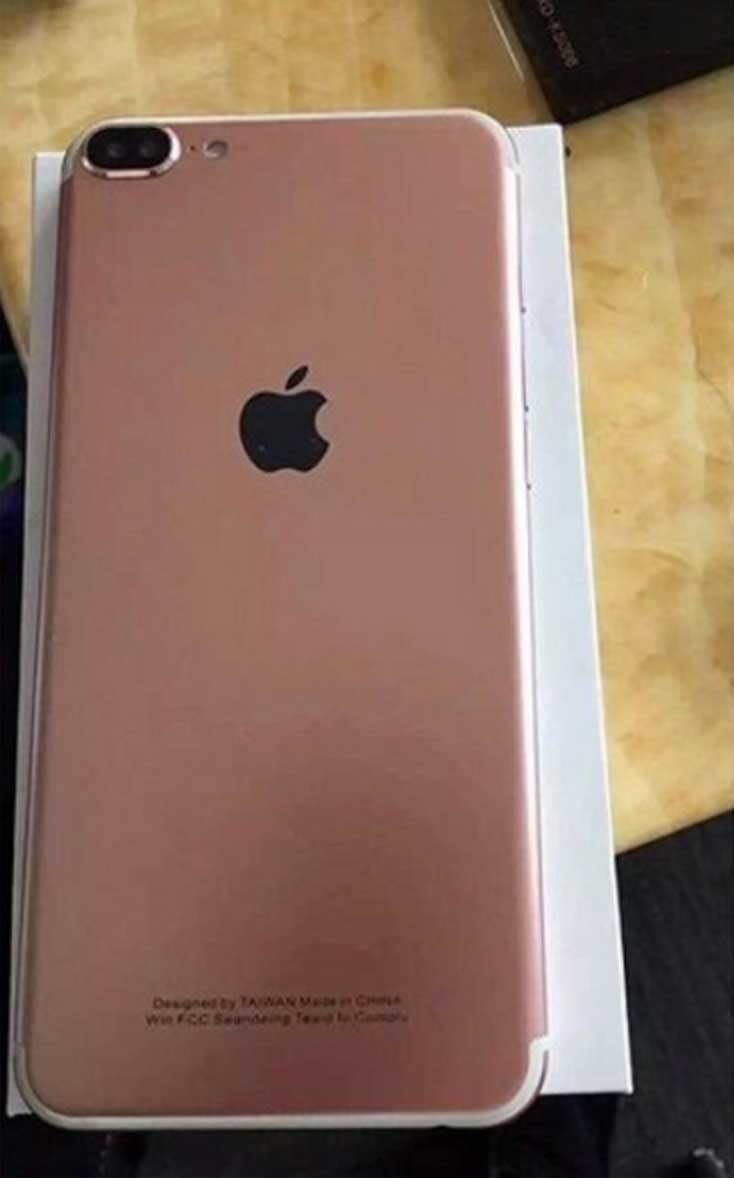apple: (211, 347, 345, 494)
